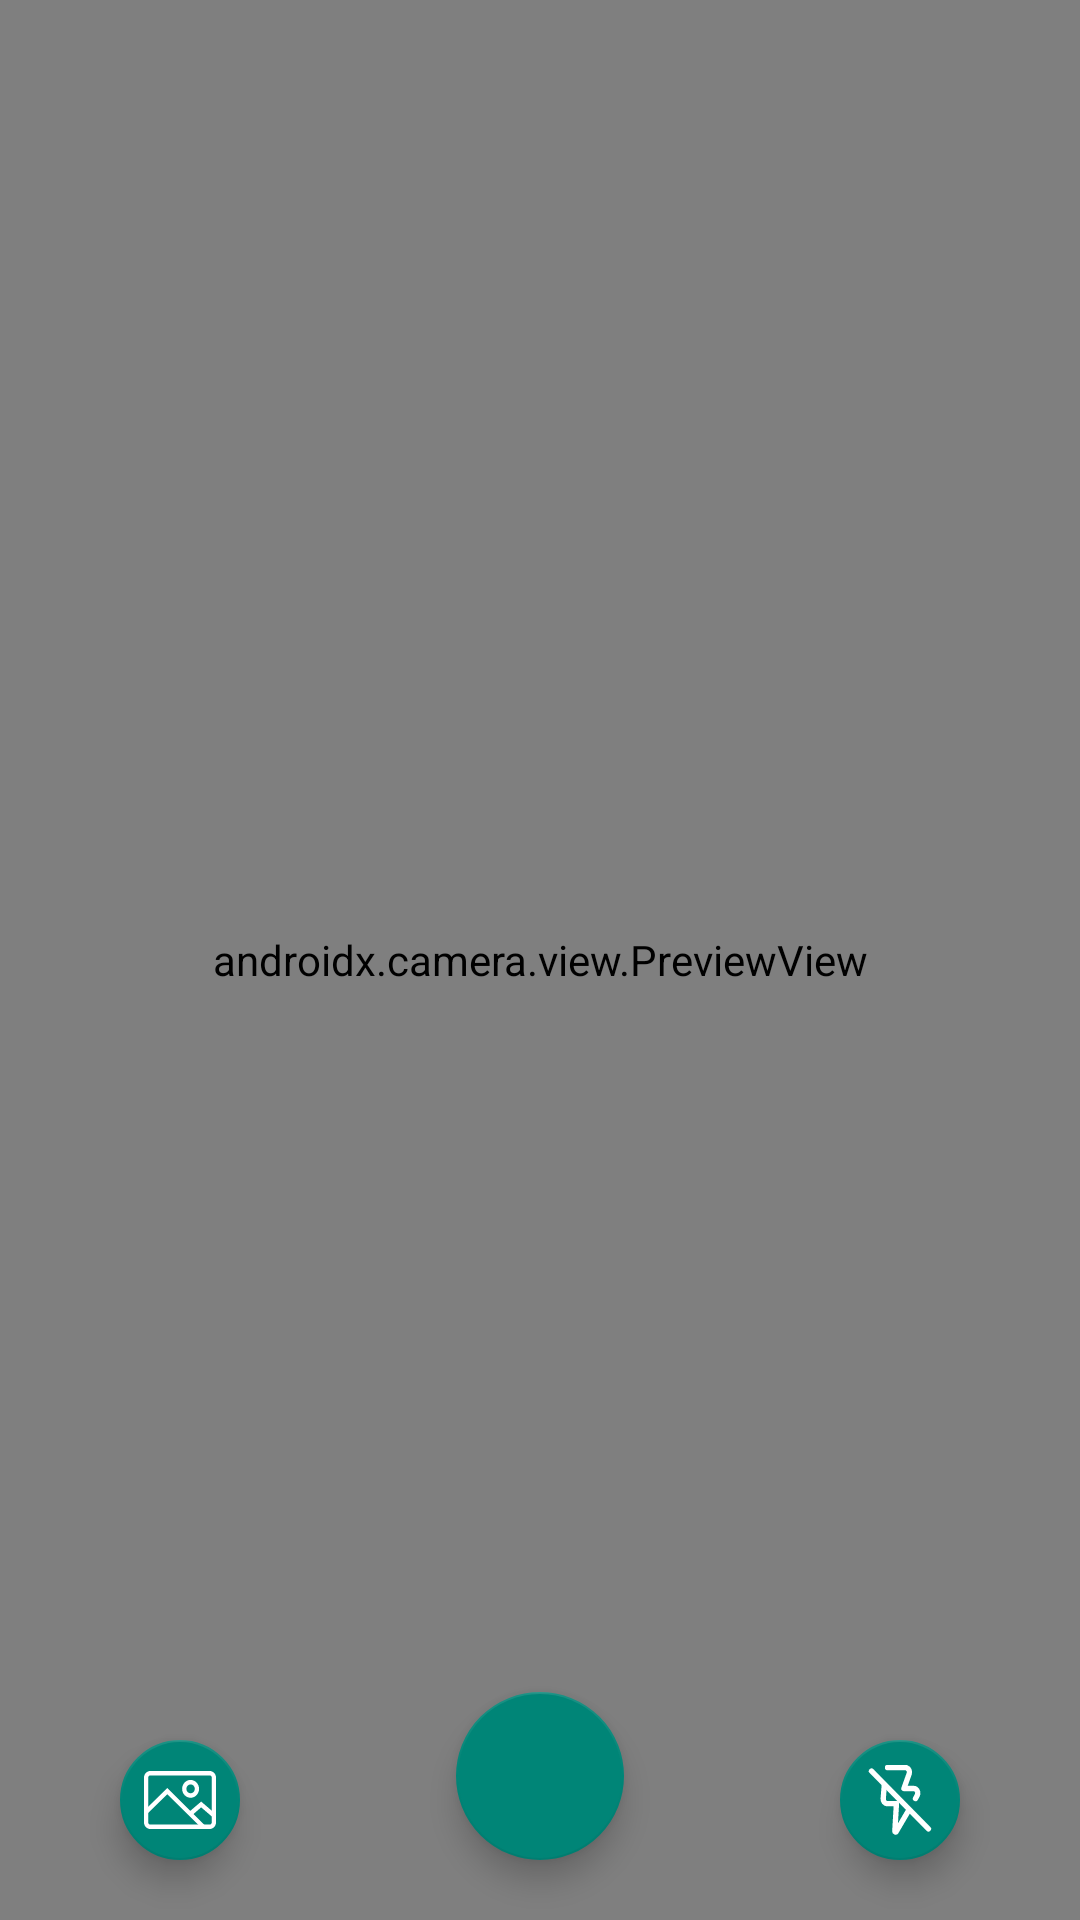

Icon click points for this 1080×1920 phone screenshot, format [x,y]:
scan flash: [900,1800]
scan gallery: [180,1800]
